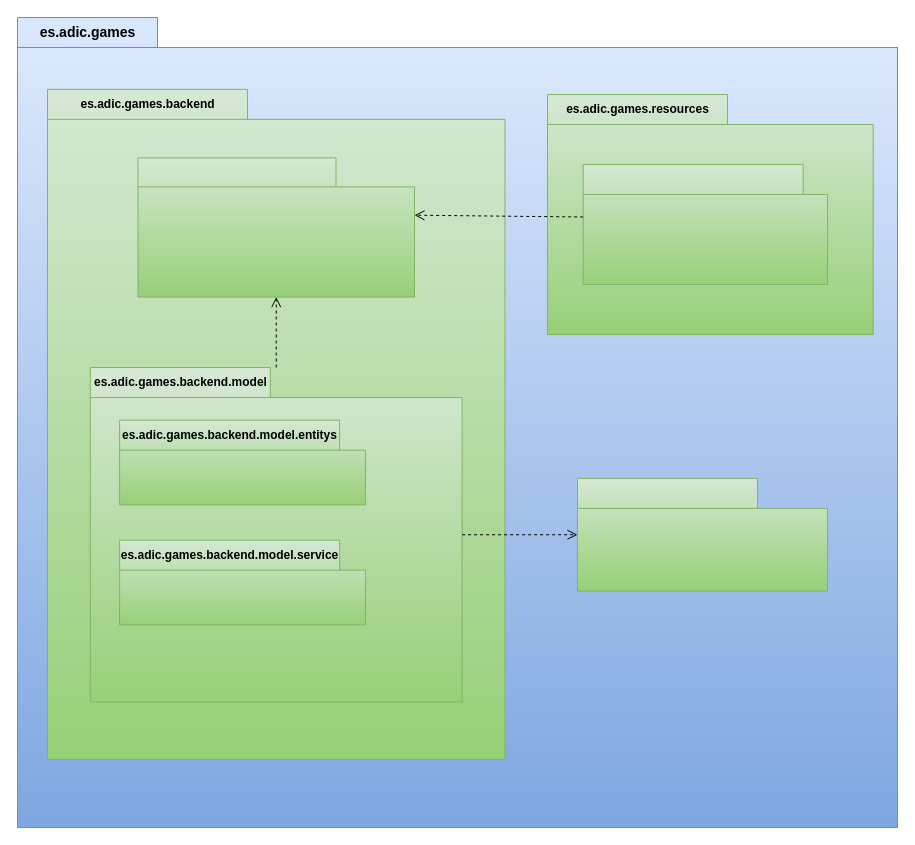
Some shapes in this 915 by 845 pixel diagram are drawn without their labels. The centre of each missing label's shape, as x and y in pixels:
"es. adic.games . backend. controller" belongs at (275,227).
"es. adic.games .config" belongs at (702,534).
"es. adic.games .resources.view" belongs at (705,224).
